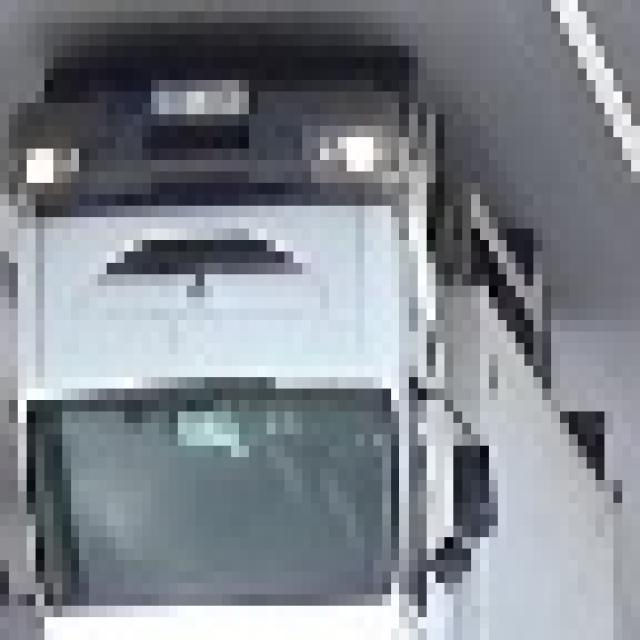truck: (9, 80, 640, 640)
